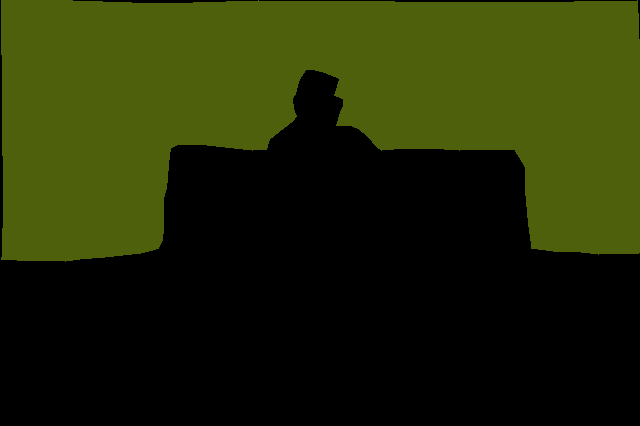Train: (1, 0, 640, 261)
